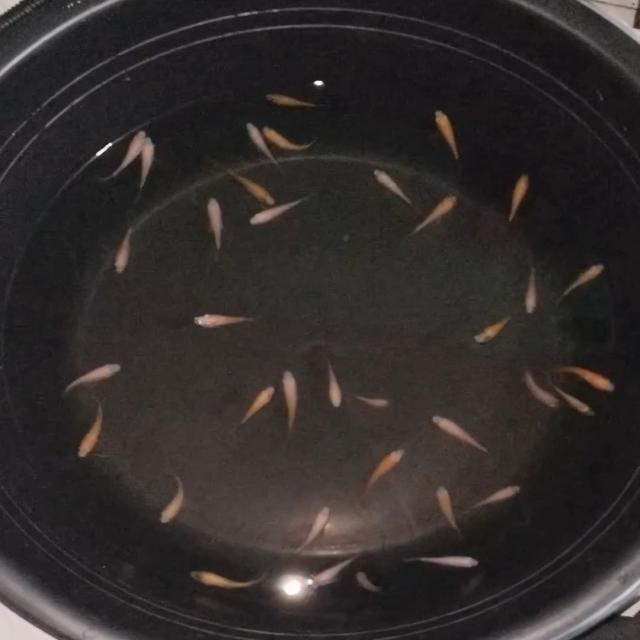nila: (429, 412, 496, 459), (554, 256, 610, 308), (546, 359, 621, 397), (406, 188, 458, 242), (355, 444, 406, 496), (304, 548, 364, 590), (243, 192, 311, 228), (288, 501, 332, 556), (60, 358, 126, 394), (227, 165, 282, 208), (104, 128, 150, 179), (229, 384, 274, 432), (434, 106, 468, 168), (518, 364, 560, 414), (549, 378, 594, 424), (371, 165, 418, 209), (501, 168, 534, 230), (76, 398, 106, 462), (243, 118, 281, 168), (277, 366, 301, 441), (107, 220, 138, 278), (468, 309, 516, 346), (156, 468, 186, 527), (130, 134, 156, 200), (261, 124, 321, 152), (186, 309, 258, 331), (435, 482, 460, 544), (470, 482, 520, 512), (187, 570, 270, 588), (520, 259, 544, 320), (262, 89, 326, 111), (204, 194, 226, 258), (400, 552, 480, 568), (325, 356, 346, 412), (354, 569, 390, 597), (354, 391, 394, 412)
